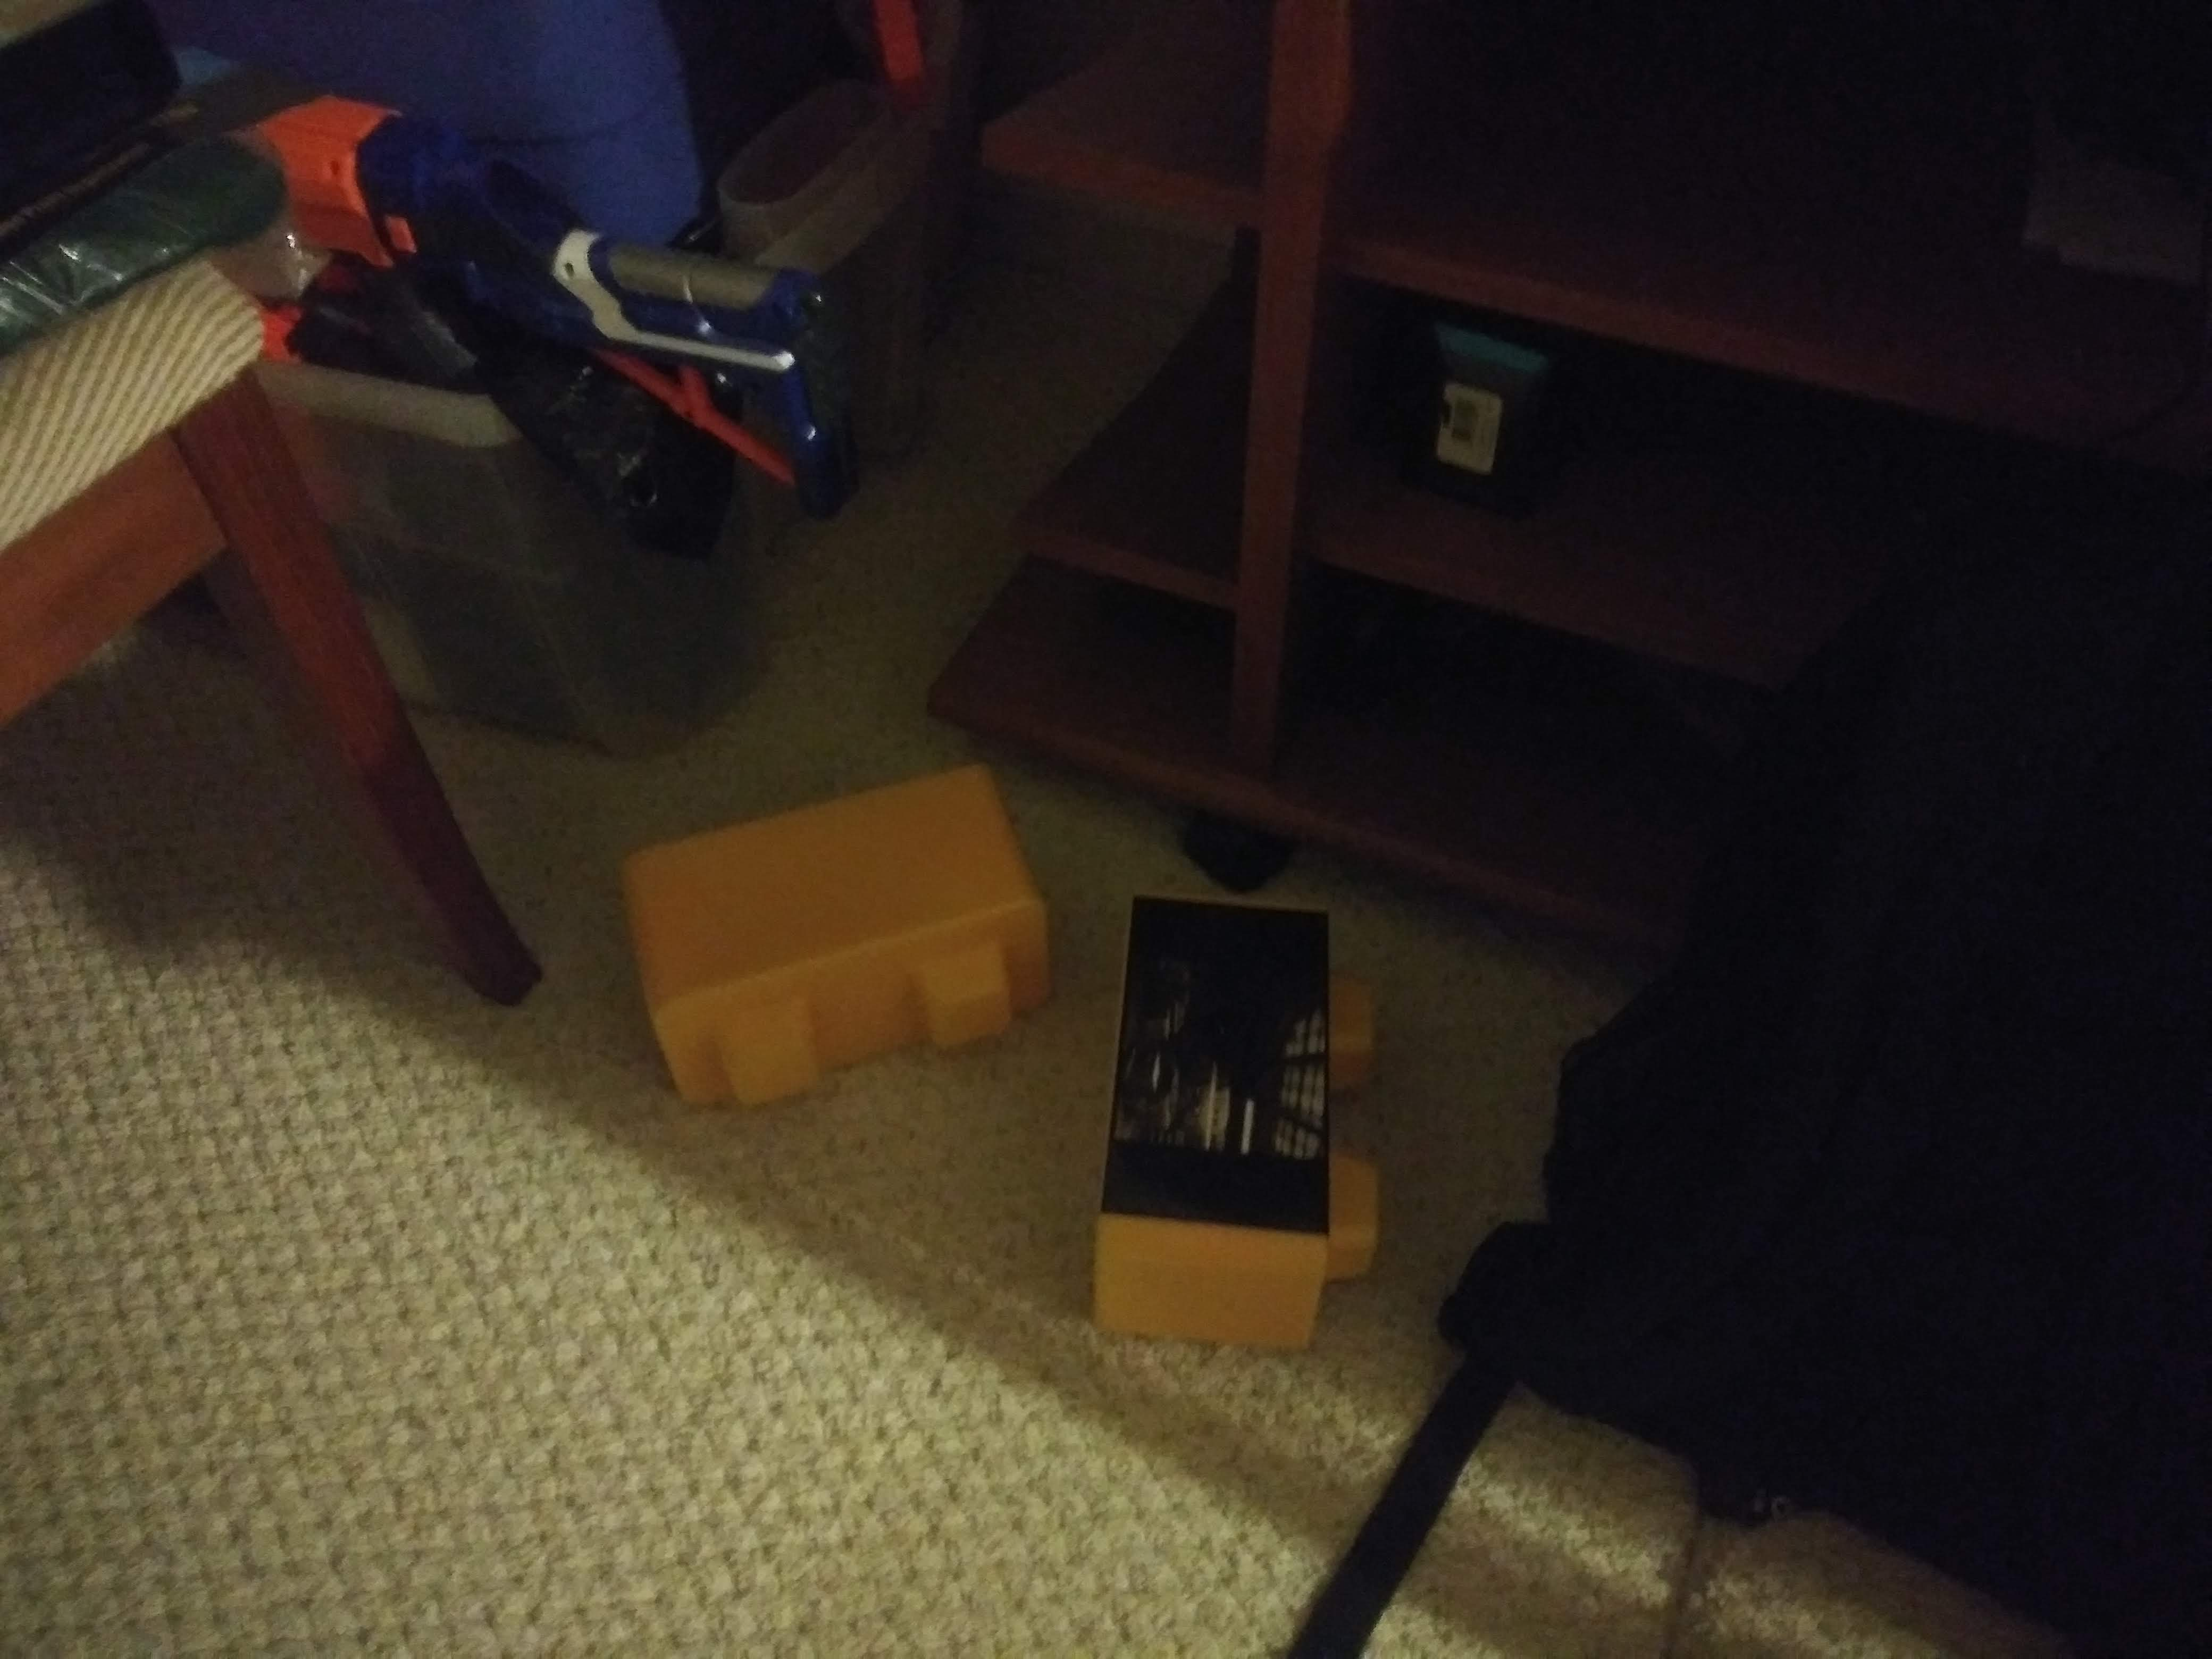skystone: (1118, 904, 1357, 1337)
stone: (637, 798, 1033, 1056)
